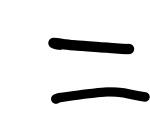eqv: (48, 36, 150, 103)
